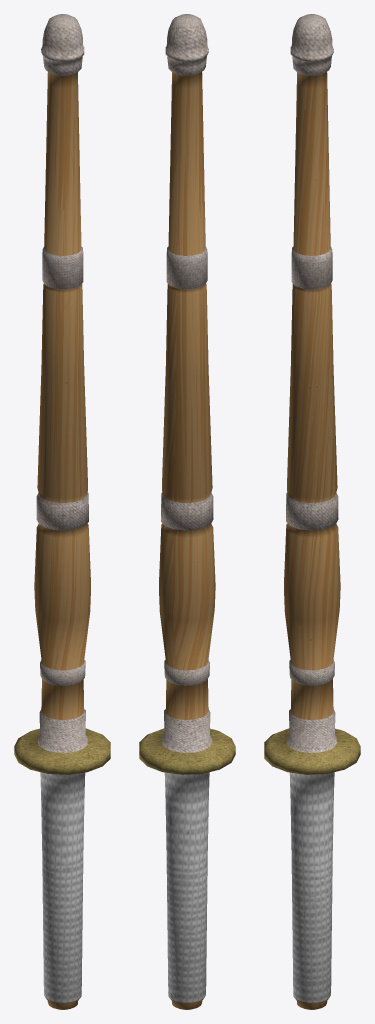
The model's file is SinaiVer2.fbx.
The picture shows the model from 3 angles, left to right: view 1: azimuth 90°, elevation 25°; view 2: azimuth 150°, elevation 25°; view 3: azimuth 270°, elevation 25°; orthographic projection.
Visible parts, largest first — view 1: Body.001; view 2: Body.001; view 3: Body.001.
Boxes of the visible parts, x1=… form: Body.001: x1=14, y1=14, x2=110, y2=1009; Body.001: x1=139, y1=14, x2=235, y2=1009; Body.001: x1=264, y1=14, x2=360, y2=1009.
Bounding box in the file's own units: 13.33 × 13.26 × 150.
